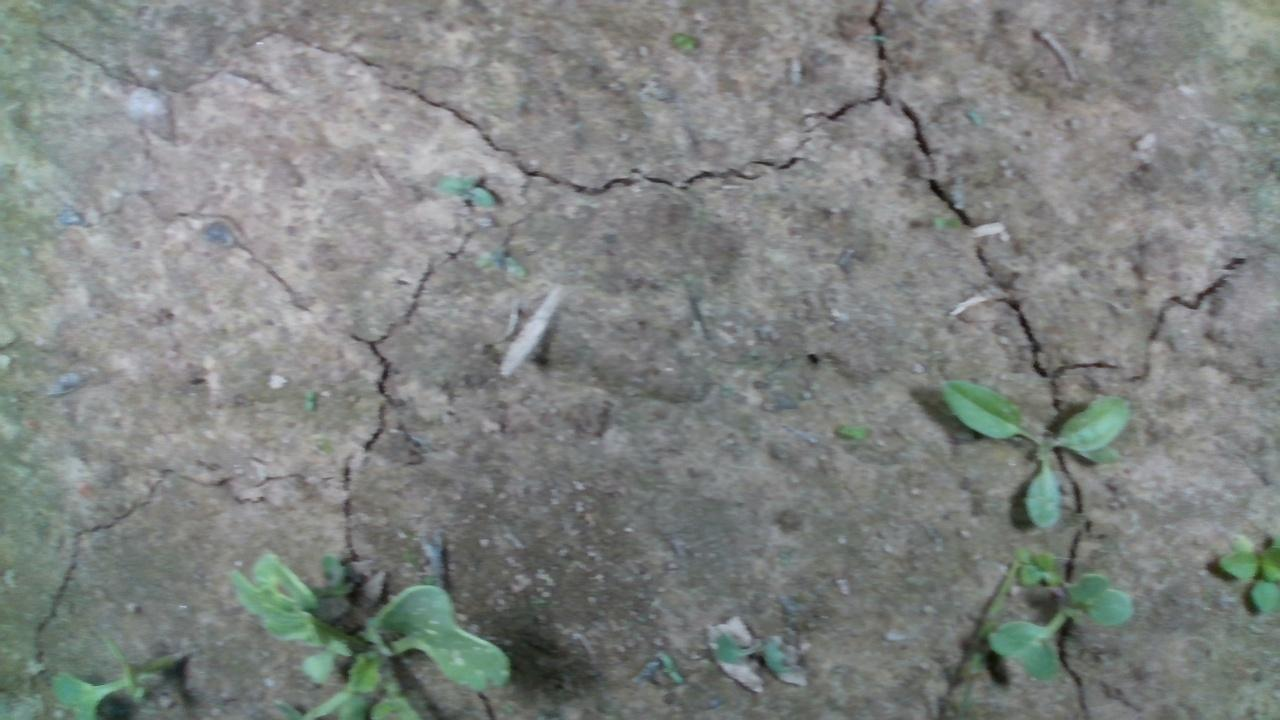weed: (301, 386, 315, 410)
